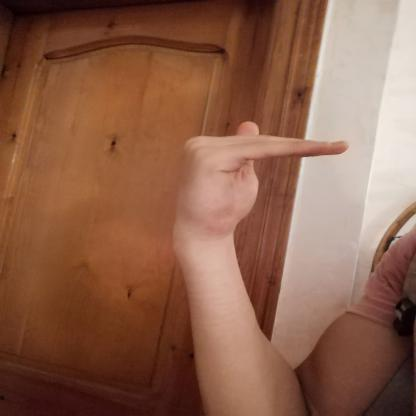KHAA: (158, 112, 366, 256)
